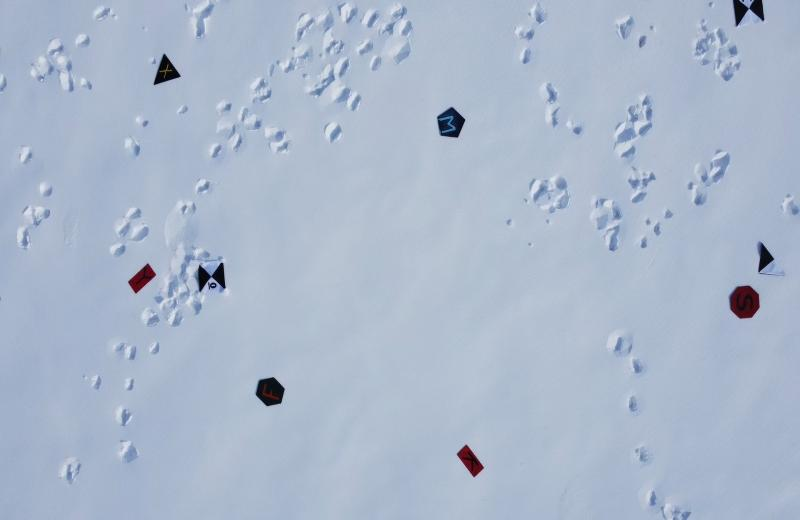Hexagon: (251, 372, 290, 410)
Pentagon: (434, 103, 470, 144)
Rectangle: (125, 257, 160, 300), (453, 440, 490, 480)
Triangle: (146, 48, 182, 88)
